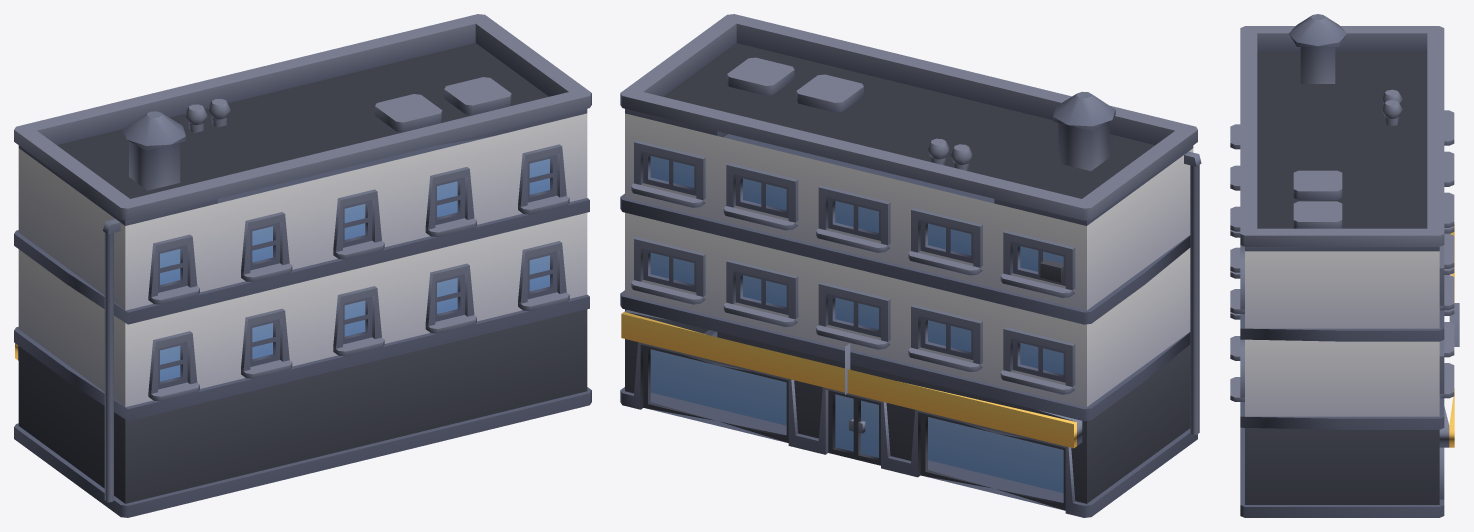
File: school-tall.glb
3 views of the same model, side by side, from view 1: azimuth 30°, elevation 25°; view 2: azimuth 150°, elevation 25°; view 3: azimuth 270°, elevation 25° (orthographic). The views are drawn at different scales.
Parts seen in each view (by area): view 1: building-k; view 2: building-k; view 3: building-k.
Boxes of the visible parts, bbox=[...] form: building-k: bbox=[14, 14, 591, 517]; building-k: bbox=[620, 14, 1201, 517]; building-k: bbox=[1230, 14, 1459, 517].
Size of the model in its own units: 2.08 by 1.47 by 0.942.
Materials: 1 (1 with a texture image).
